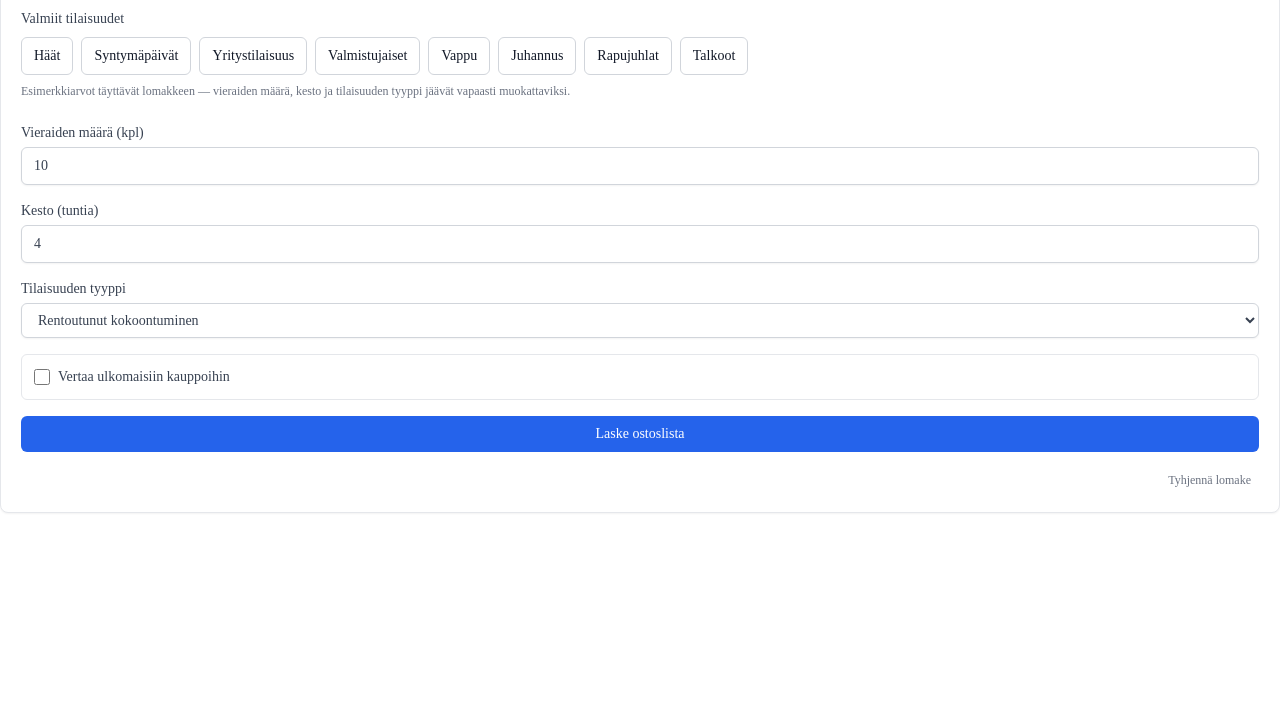
EventPage › explains NO_PUBLISHED_NORMS as a result state and still renders the disclaimer
What coordinates should you click on to do the following:
click the button "Laske ostoslista"
I would click on:
 (640, 434)
Its box is [21, 416, 1259, 452].
(page scrolled)
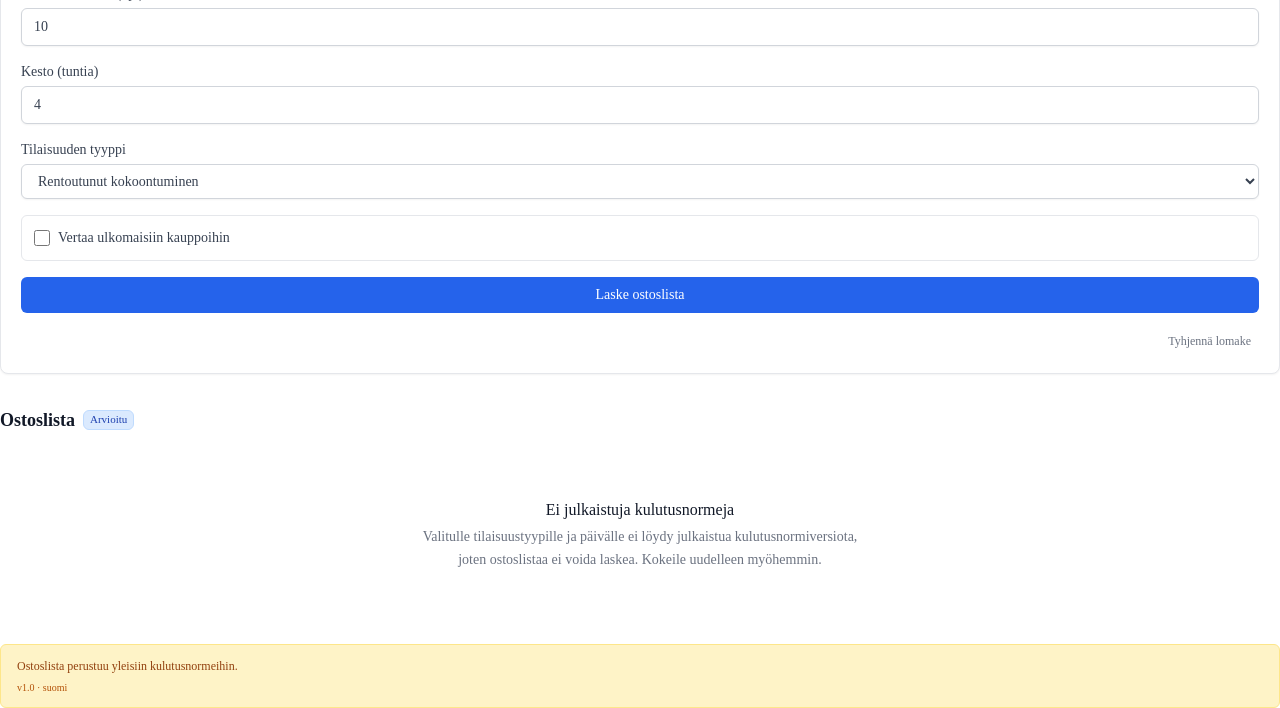
expect the text "Ei julkaistuja kulutusnormeja" is shown: met, box [546, 501, 734, 518]
expect the text "Valitulle tilaisuustyypille ja päivälle ei löydy julkaistua kulutusnormiversiota, joten ostoslistaa ei voida laskea. Kok" is shown: met, box [423, 529, 857, 567]
expect the text "Ostoslista perustuu yleisiin kulutusnormeihin." is shown: met, box [17, 658, 238, 672]
